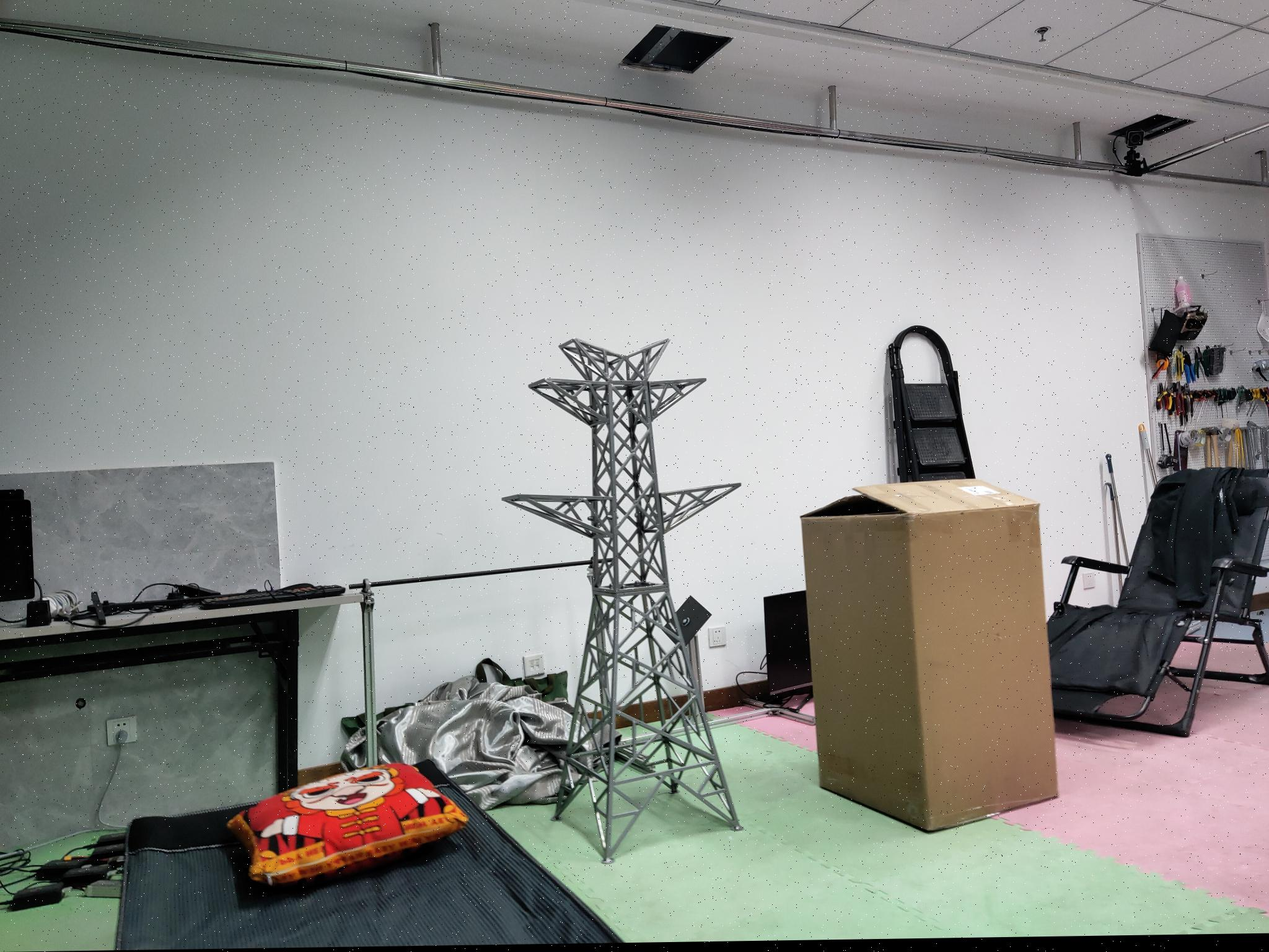tower: (506, 337, 741, 868)
